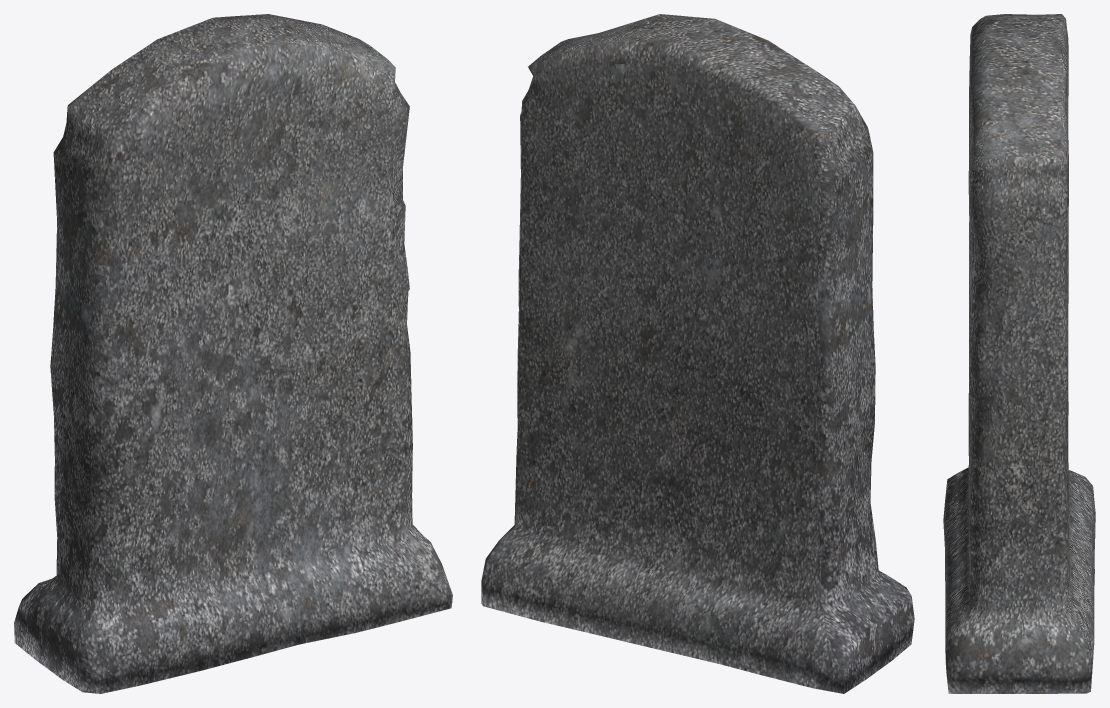
Rendered from tombstone1.obj.
3 renders of one model, left to right at view 1: azimuth 30°, elevation 25°; view 2: azimuth 150°, elevation 25°; view 3: azimuth 270°, elevation 25°, orthographic. The views are drawn at different scales.
Visible parts, largest first — view 1: tombstone_1; view 2: tombstone_1; view 3: tombstone_1.
Boxes of the visible parts, <box> form: tombstone_1: <box>14,14,452,693</box>; tombstone_1: <box>481,14,914,693</box>; tombstone_1: <box>943,14,1095,693</box>.
Bounding box in the file's own units: 0.5174 × 0.7973 × 0.1905.
